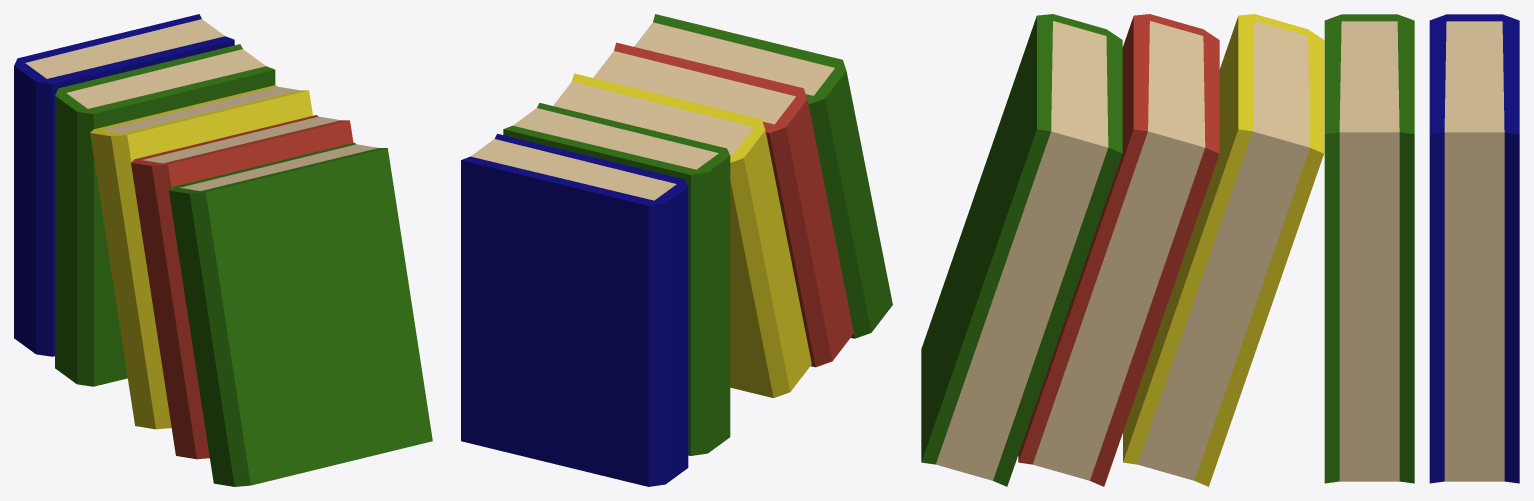
The model's file is book 2.fbx.
The picture shows the model from 3 angles, left to right: view 1: azimuth 30°, elevation 25°; view 2: azimuth 150°, elevation 25°; view 3: azimuth 270°, elevation 25°; orthographic projection. The views are drawn at different scales.
Parts seen in each view (by area): view 1: pCube39; view 2: pCube39; view 3: pCube39.
Boxes of the visible parts, left/top/right/bottom form: pCube39: left=14, top=14, right=432, bottom=486; pCube39: left=461, top=14, right=892, bottom=486; pCube39: left=921, top=14, right=1519, bottom=486.
Bounding box in the file's own units: 5.06 × 7.04 × 10.66.
